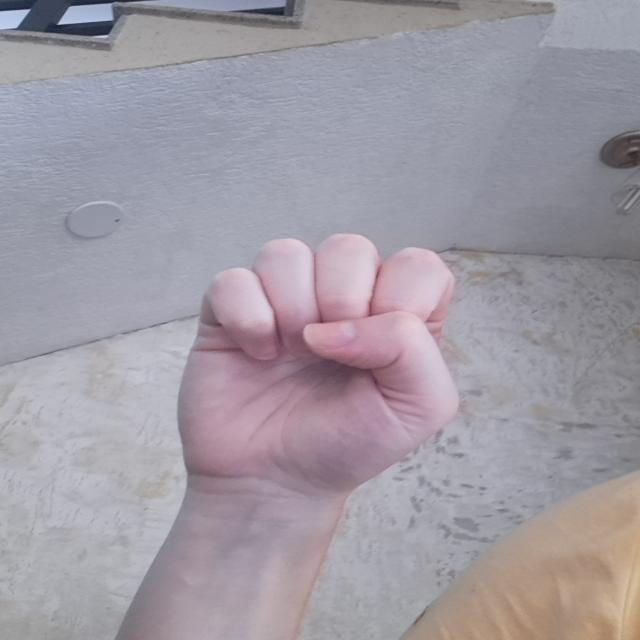S: (157, 227, 478, 502)
